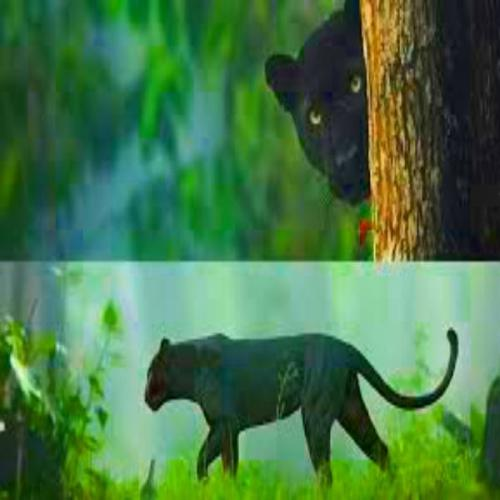panther-endangered: (142, 329, 459, 486), (262, 0, 373, 203)
